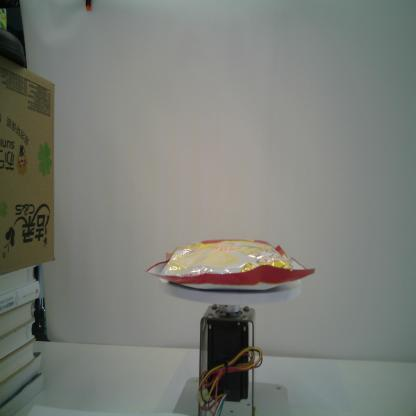Instant Drink: (146, 239, 315, 292)
